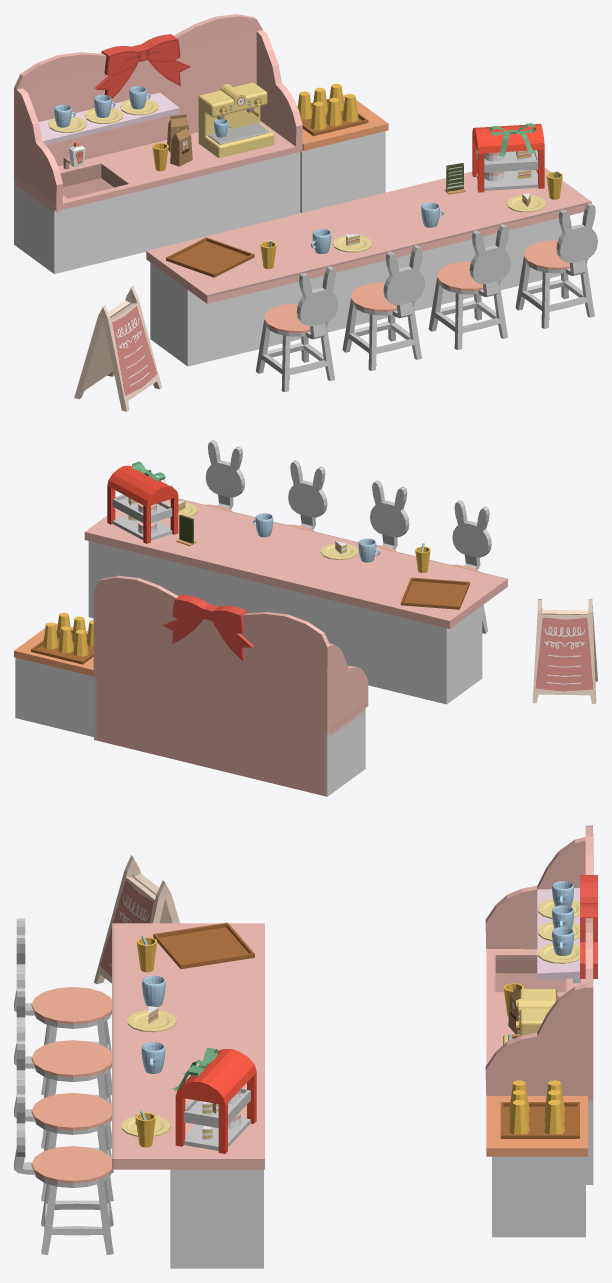
Rendered from CafeAllJoin.fbx.
The picture shows the model from 3 angles, top to bottom: view 1: azimuth 30°, elevation 25°; view 2: azimuth 150°, elevation 25°; view 3: azimuth 270°, elevation 25°; orthographic projection. The views are drawn at different scales.
Parts seen in each view (by area): view 1: CoffeeMachineTable, Table, CupTable, Menu, Chair2, Chair3, Chair1, Chair4; view 2: Table, CoffeeMachineTable, CupTable, Menu, Chair4, Chair2, Chair1, Chair3; view 3: Table, CoffeeMachineTable, CupTable, Chair1, Chair2, Chair4, Chair3, Menu.
Boxes of the visible parts, x1,y1,x2,y2 form: CoffeeMachineTable: (14, 14, 302, 273); Table: (146, 123, 591, 366); CupTable: (297, 83, 388, 212); Menu: (74, 286, 162, 411); Chair2: (428, 224, 510, 349); Chair3: (342, 245, 424, 370); Chair1: (515, 203, 597, 328); Chair4: (256, 266, 338, 392); Table: (84, 461, 507, 704); CoffeeMachineTable: (93, 575, 368, 796); CupTable: (14, 612, 93, 736); Menu: (532, 599, 597, 703); Chair4: (451, 500, 491, 633); Chair2: (287, 460, 327, 531); Chair1: (205, 440, 244, 511); Chair3: (370, 480, 409, 551); Table: (112, 922, 264, 1268); CoffeeMachineTable: (485, 825, 597, 1184); CupTable: (486, 1080, 587, 1237); Chair1: (14, 1077, 113, 1254); Chair2: (14, 1024, 113, 1201); Chair4: (14, 918, 111, 1095); Chair3: (14, 971, 111, 1148); Menu: (94, 855, 179, 984).
Bounding box in the file's own units: 924 × 319 × 748.
1 material, 1 textured.
